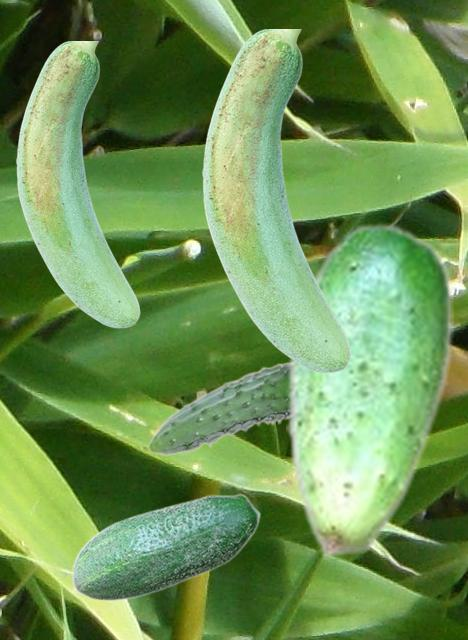cucumber: (286, 221, 452, 558), (202, 29, 350, 372), (16, 41, 139, 327), (71, 493, 260, 600), (147, 360, 286, 454)
